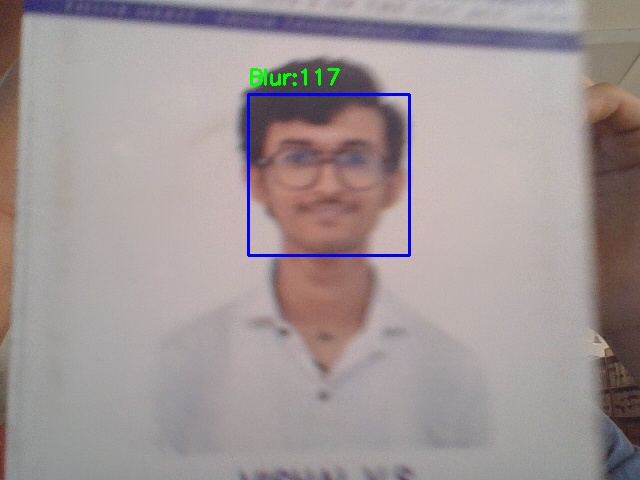fake: (248, 94, 409, 255)
